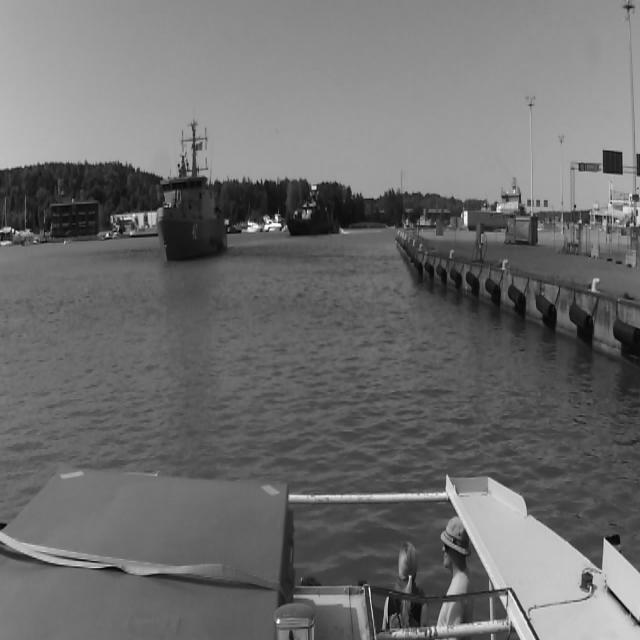ship: (161, 114, 230, 263), (286, 180, 344, 232)
